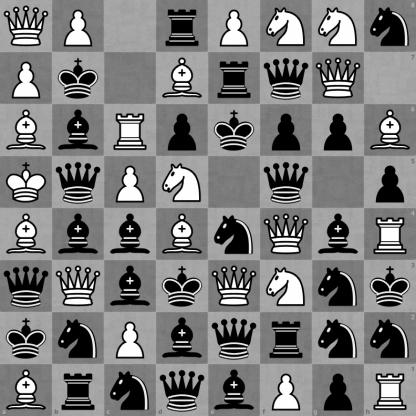B: (0, 364, 52, 416), (364, 104, 416, 156), (1, 105, 52, 156), (1, 209, 52, 260), (157, 53, 208, 104), (157, 209, 208, 260)
K: (1, 157, 52, 208)
N: (157, 157, 208, 208), (261, 1, 312, 52), (261, 261, 312, 312), (313, 1, 364, 52)
P: (260, 364, 312, 416), (1, 53, 52, 104), (53, 1, 104, 52), (105, 157, 156, 208), (105, 313, 156, 364), (209, 1, 260, 52)
Q: (1, 1, 52, 52), (53, 261, 104, 312), (209, 261, 260, 312), (261, 209, 312, 260), (313, 53, 364, 104)
R: (364, 364, 416, 416), (364, 209, 416, 260), (105, 105, 156, 156)
b: (209, 364, 260, 416), (53, 105, 104, 156), (53, 209, 104, 260), (105, 209, 156, 260), (105, 261, 156, 312), (157, 313, 208, 364), (313, 209, 364, 260)
board: (0, 0, 415, 415)
k: (364, 260, 416, 312), (1, 313, 52, 364), (53, 53, 104, 104), (157, 261, 208, 312), (209, 105, 260, 156)
n: (104, 364, 156, 416), (364, 0, 416, 52), (364, 312, 416, 364), (53, 313, 104, 364), (209, 209, 260, 260), (313, 261, 364, 312), (313, 313, 364, 364)
p: (364, 156, 416, 209), (312, 364, 364, 416), (157, 105, 208, 156), (261, 105, 312, 156), (313, 105, 364, 156)
q: (156, 364, 209, 416), (1, 261, 52, 312), (53, 157, 104, 208), (209, 313, 260, 364), (261, 53, 312, 104), (261, 157, 312, 208)
r: (52, 364, 104, 416), (157, 1, 208, 52), (209, 53, 260, 104), (261, 313, 312, 364)
